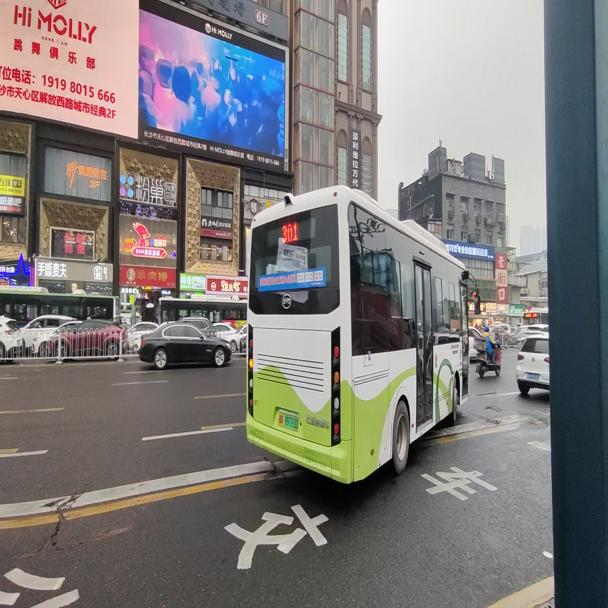bus: (243, 183, 481, 484), (522, 309, 548, 327)
screen: (281, 222, 297, 242)
